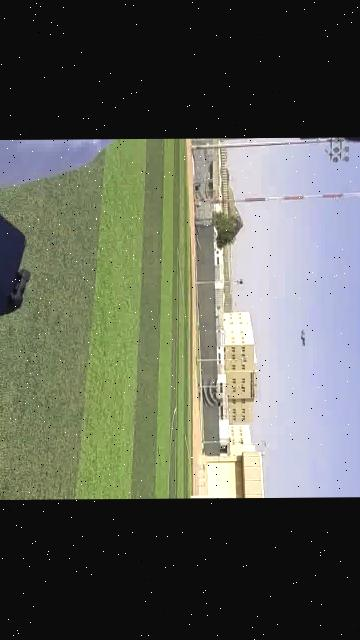drone: (298, 322, 310, 352)
